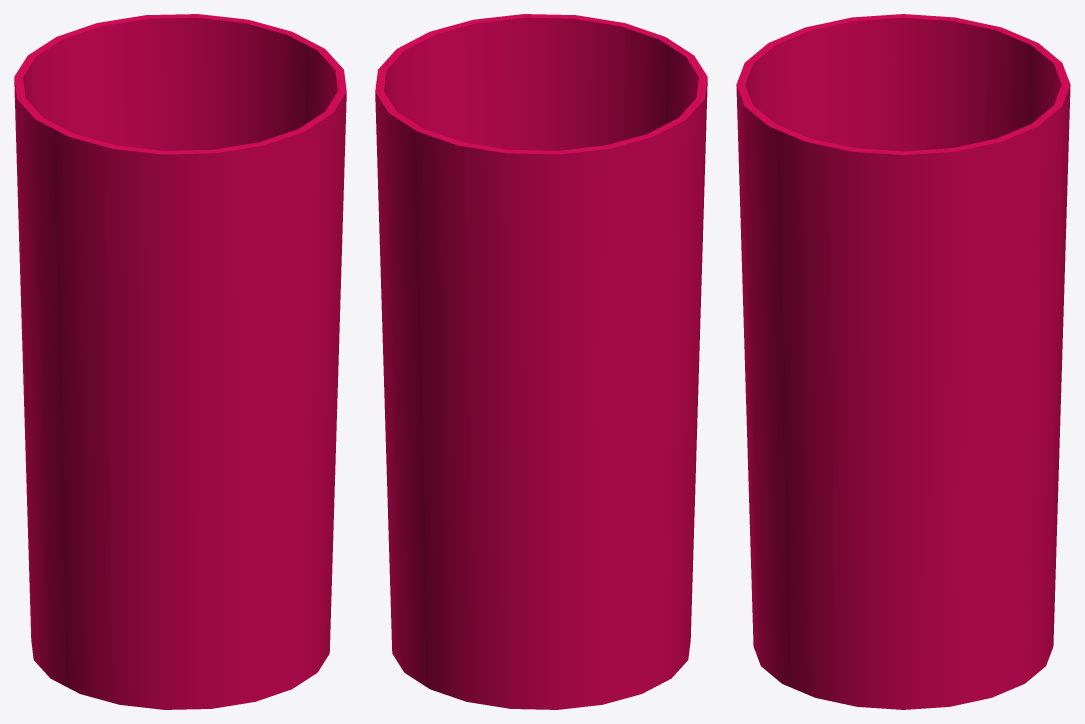
The model's file is Tumbler_02_Lod0.fbx.
The picture shows the model from 3 angles, left to right: view 1: azimuth 30°, elevation 25°; view 2: azimuth 150°, elevation 25°; view 3: azimuth 270°, elevation 25°; orthographic projection.
Visible parts, largest first — view 1: Tumbler_02_Lod0; view 2: Tumbler_02_Lod0; view 3: Tumbler_02_Lod0.
Part boxes in pixels (<box>): Tumbler_02_Lod0: <box>14,14,346,709</box>; Tumbler_02_Lod0: <box>375,14,707,709</box>; Tumbler_02_Lod0: <box>736,14,1070,709</box>.
Size of the model in its own units: 7.95 by 14.76 by 7.95.
